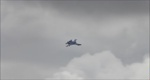maybay_muctieu: (66, 38, 82, 48)
